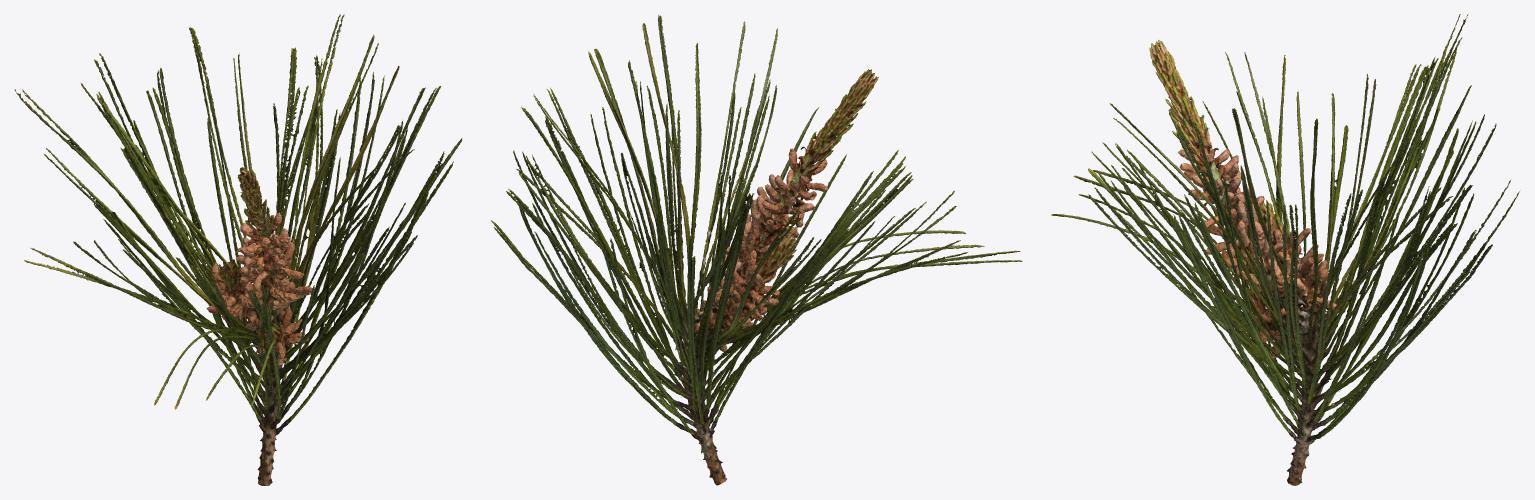
Rendered from pine.glb.
3 views of the same model, side by side, from view 1: azimuth 30°, elevation 25°; view 2: azimuth 150°, elevation 25°; view 3: azimuth 270°, elevation 25° (orthographic). The views are drawn at different scales.
Parts seen in each view (by area): view 1: Object_14, Object_10, Object_6; view 2: Object_14, Object_10, Object_6; view 3: Object_14, Object_10, Object_6.
Part boxes in pixels (left/top/right/bottom): Object_14: left=14, top=14, right=460, bottom=485; Object_10: left=16, top=16, right=462, bottom=485; Object_6: left=15, top=15, right=461, bottom=485; Object_14: left=491, top=14, right=1022, bottom=483; Object_10: left=493, top=16, right=1020, bottom=484; Object_6: left=491, top=15, right=1020, bottom=485; Object_14: left=1052, top=14, right=1518, bottom=484; Object_10: left=1052, top=14, right=1520, bottom=485; Object_6: left=1051, top=17, right=1516, bottom=481.
Size of the model in its own units: 1 by 0.9493 by 0.9411.
3 materials, 3 textured.
